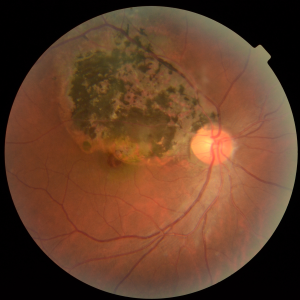retina_disease: (69, 82, 261, 197)
